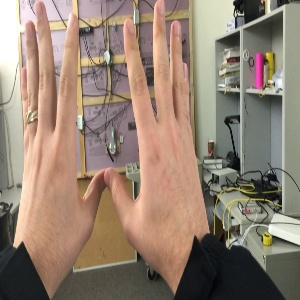hand: (104, 1, 209, 258), (21, 1, 103, 272)
